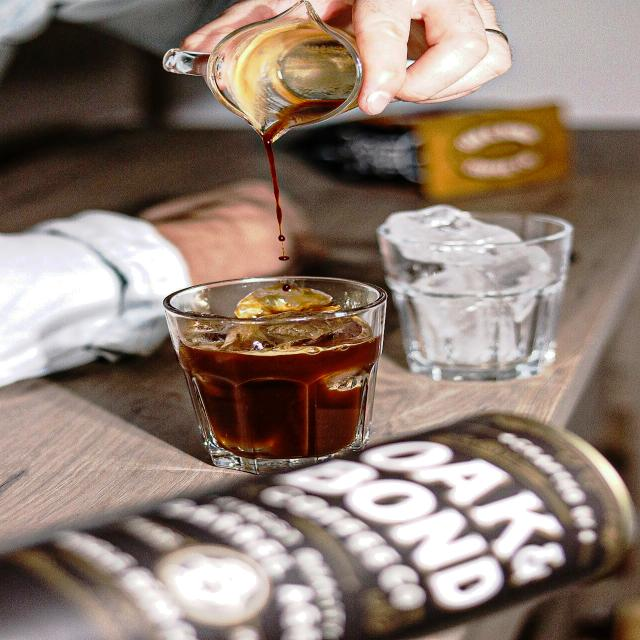drink: (161, 274, 391, 463)
